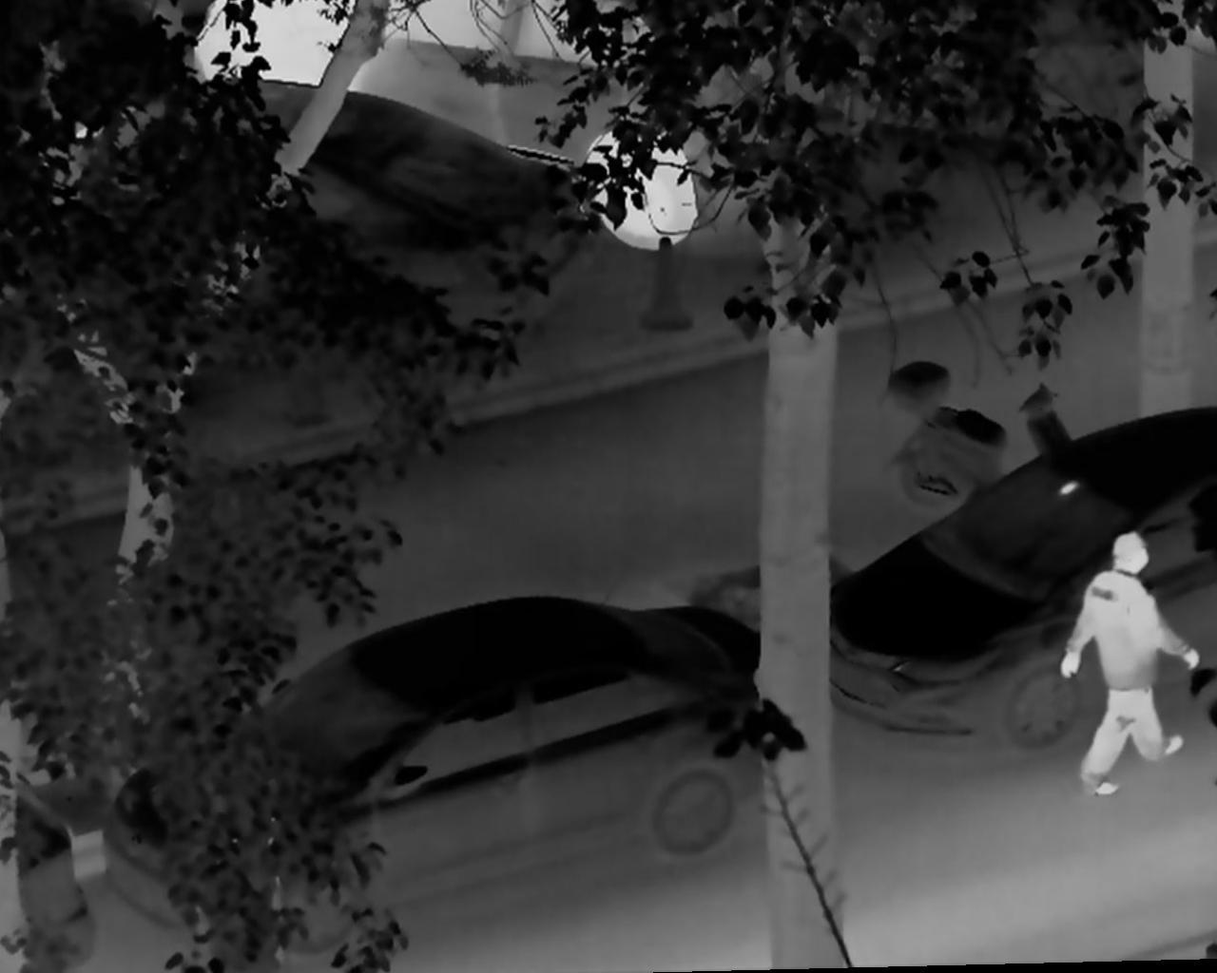person: (1058, 524, 1197, 803)
